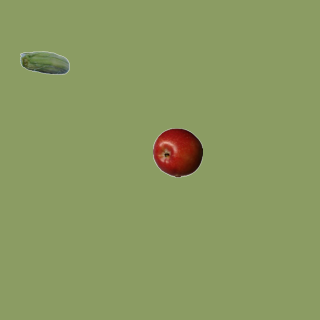Apple Braeburn: (152, 127, 202, 177)
Corn Husk: (19, 39, 69, 89)
